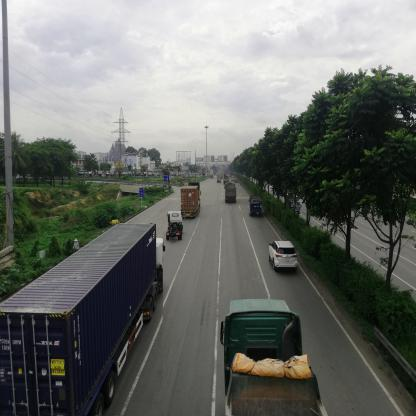car: (270, 242, 300, 272)
container: (2, 225, 164, 416), (222, 298, 325, 416), (182, 182, 201, 218)
truck: (168, 212, 183, 242), (250, 197, 263, 218), (226, 185, 238, 204)
